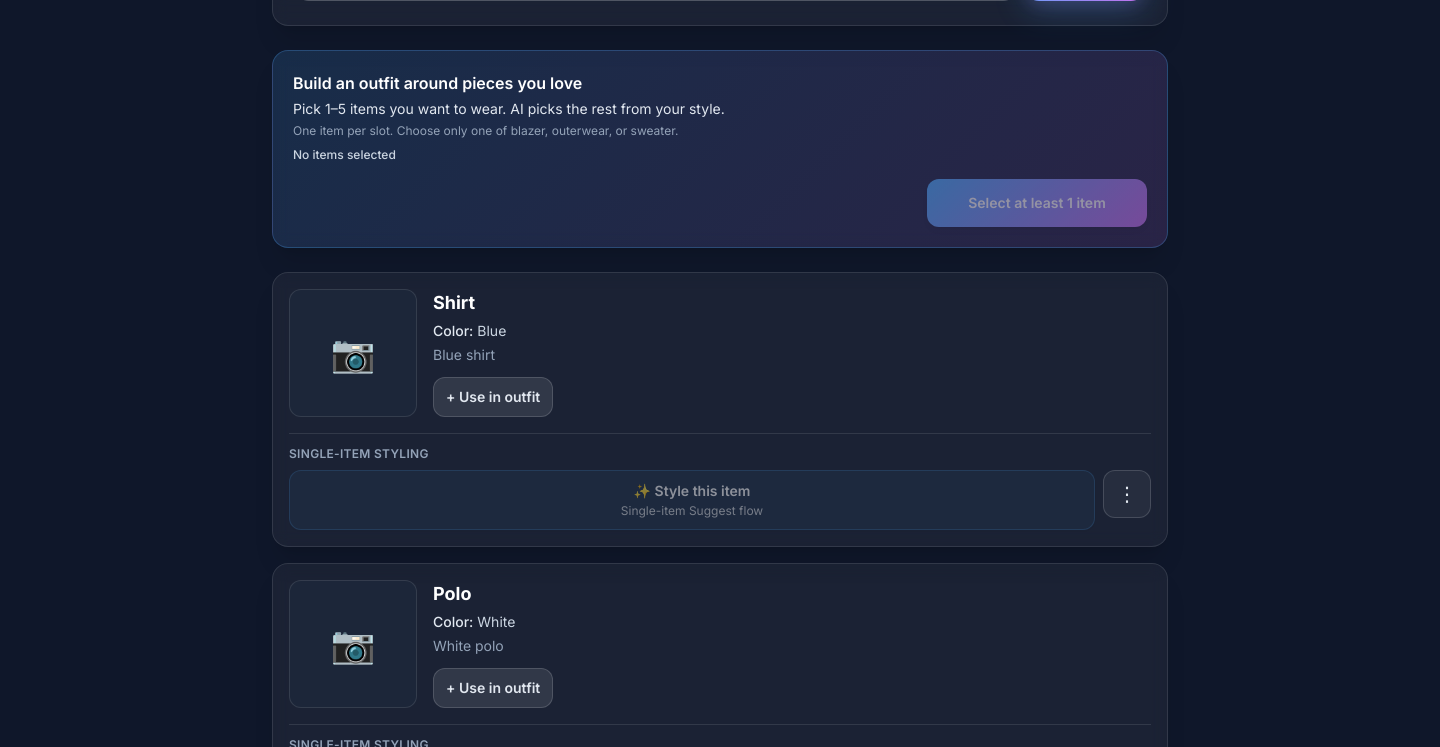
Scenario: Wardrobe page › prevents duplicate outfit-slot selections with clear copy
The image size is (1440, 747).
(page scrolled)
What coordinates should you click on to do the following:
click the button with aria-label "Use shirt in outfit"
I would click on:
 (493, 397)
Its box is [433,377,553,417].
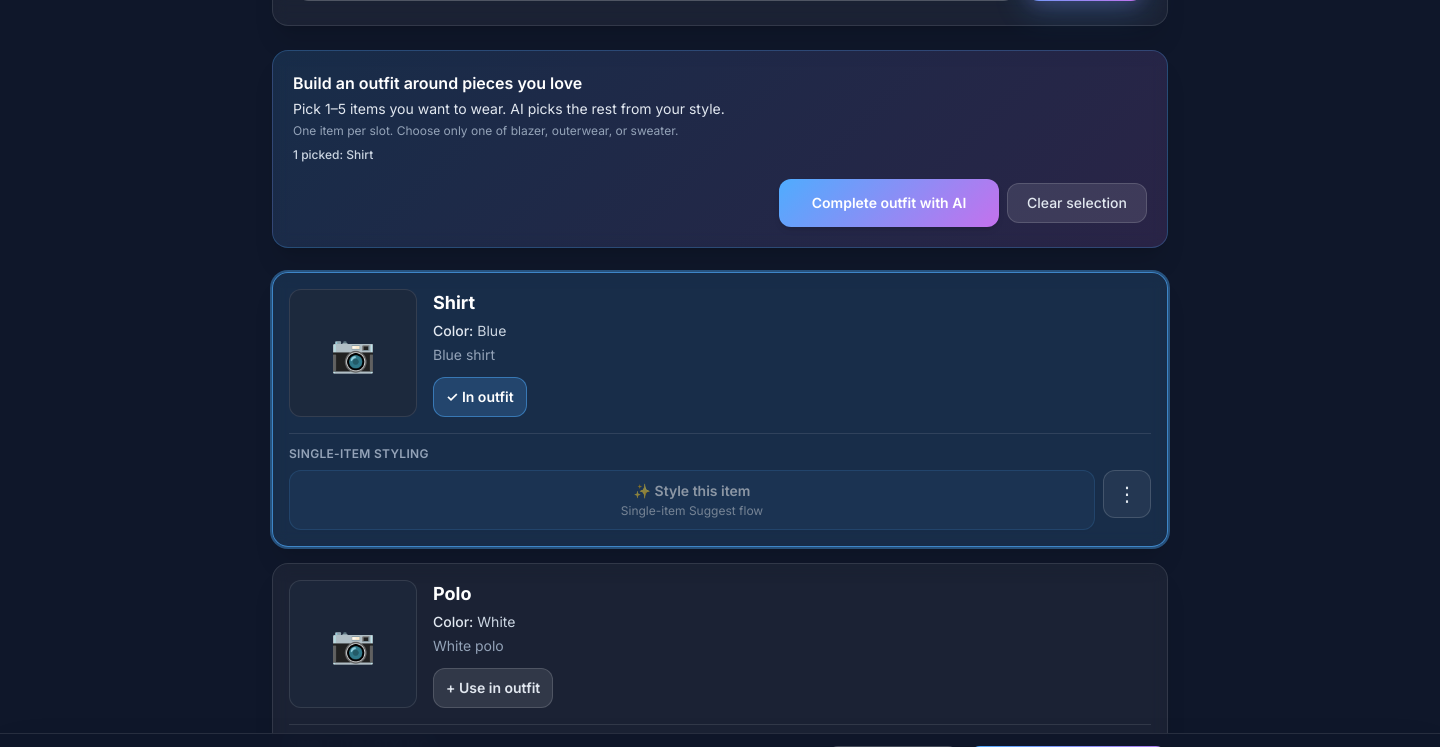
What coordinates should you click on to do the following:
click the button with aria-label "Use polo in outfit"
I would click on:
 (493, 688)
Its box is [433,668,553,708].
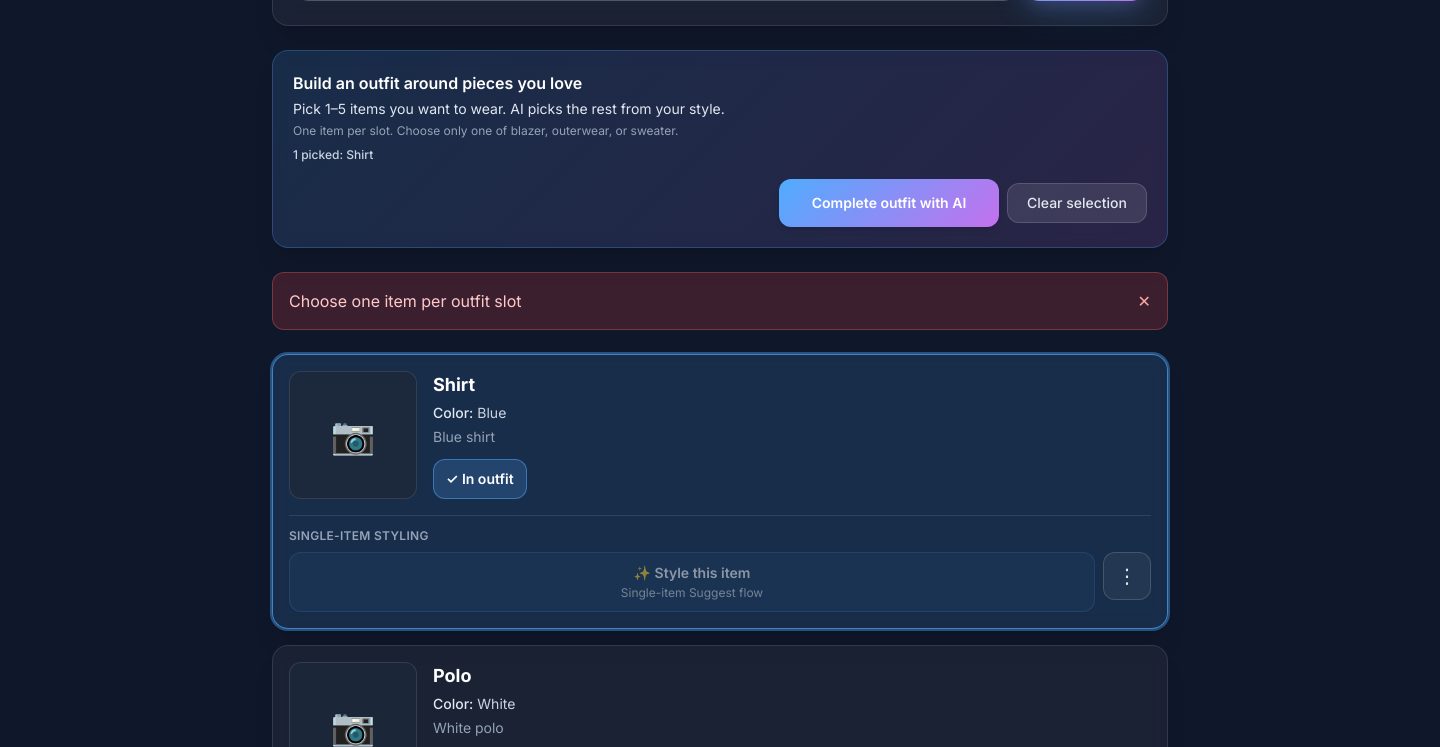
Expected: the number of buttons "✓ In outfit" is 1, [433,459,527,499]
Result: the button "Complete outfit with AI" is enabled at [779,179,999,227]
Result: the text "Choose one item per outfit slot" is shown at [289,289,522,313]
